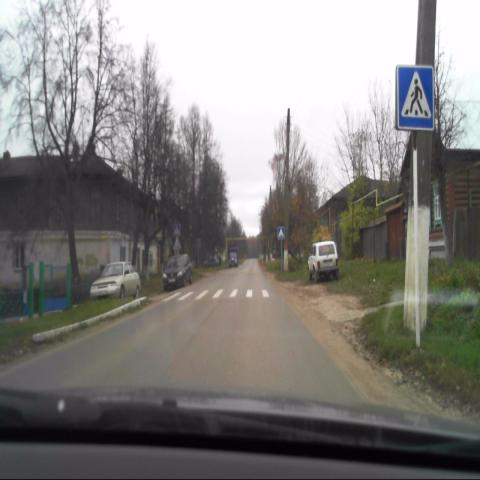5_19_1: (396, 65, 434, 131), (173, 223, 180, 236)
5_20: (276, 226, 284, 239)
